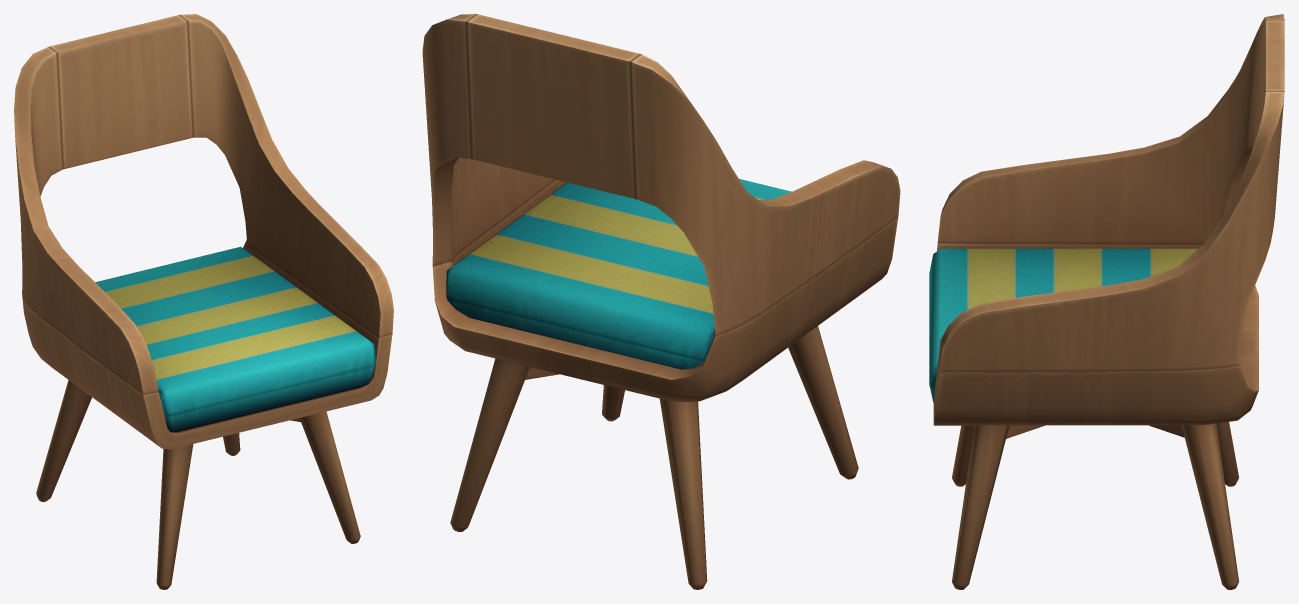
The model's file is Lovely餐椅.glb.
3 views of the same model, side by side, from view 1: azimuth 30°, elevation 25°; view 2: azimuth 150°, elevation 25°; view 3: azimuth 270°, elevation 25° (orthographic). The views are drawn at different scales.
Parts seen in each view (by area): view 1: TinyLiving_LovelyDiningChair_42; view 2: TinyLiving_LovelyDiningChair_42; view 3: TinyLiving_LovelyDiningChair_42.
Part boxes in pixels (box(x1,y1,x2,y2)): TinyLiving_LovelyDiningChair_42: box(14, 14, 393, 589); TinyLiving_LovelyDiningChair_42: box(422, 14, 900, 589); TinyLiving_LovelyDiningChair_42: box(929, 14, 1284, 589).
Bounding box in the file's own units: 0.623 × 0.9886 × 0.6607.
Materials: 1 (1 with a texture image).
